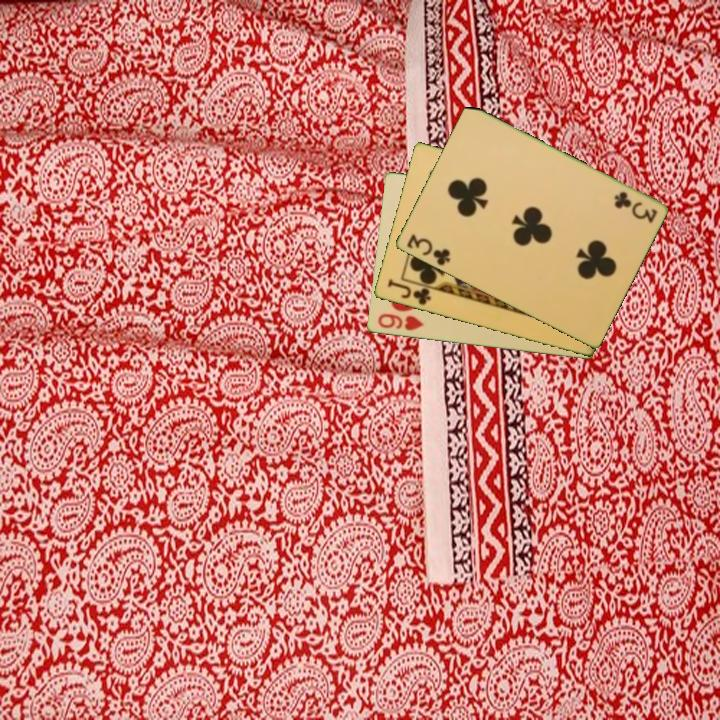3c: (403, 230, 453, 269), (610, 188, 660, 226)
9h: (374, 310, 426, 334)
Jc: (384, 276, 433, 308)
